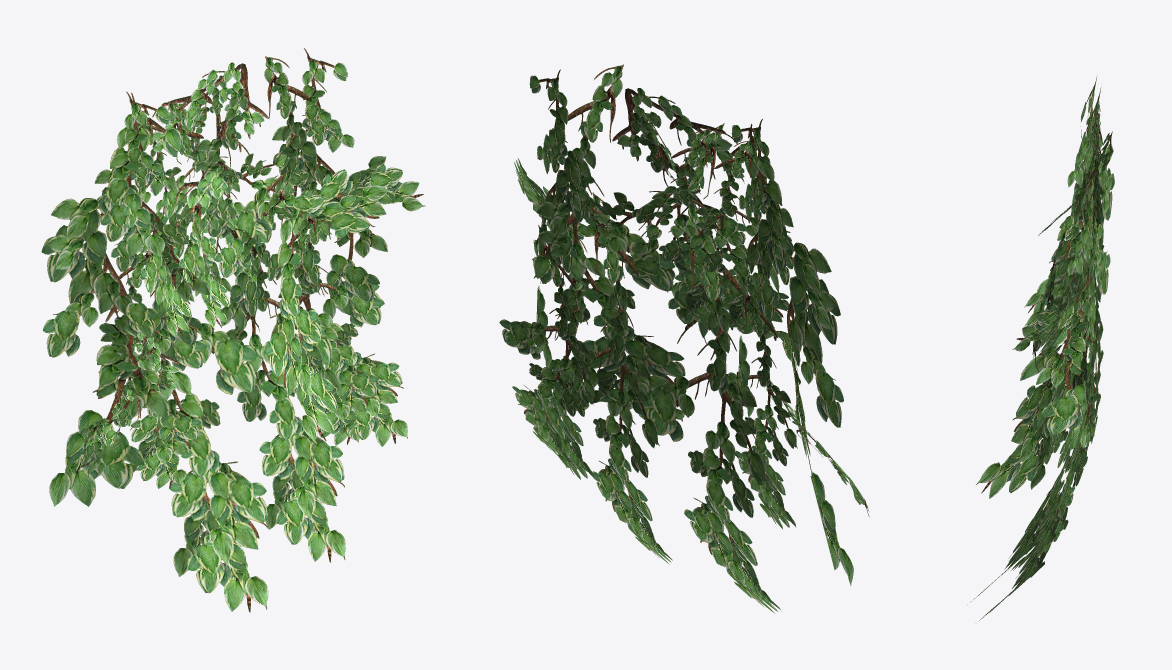
The model's file is ivy04_lod0.fbx.
3 renders of one model, left to right at view 1: azimuth 30°, elevation 25°; view 2: azimuth 150°, elevation 25°; view 3: azimuth 270°, elevation 25°, orthographic. The views are drawn at different scales.
Parts seen in each view (by area): view 1: Mesh Object; view 2: Mesh Object; view 3: Mesh Object.
Boxes of the visible parts, x1,y1,x2,y2 form: Mesh Object: (41, 48, 425, 612); Mesh Object: (499, 64, 869, 613); Mesh Object: (970, 75, 1114, 620).
Bounding box in the file's own units: 1.09 × 1.51 × 0.6121.
